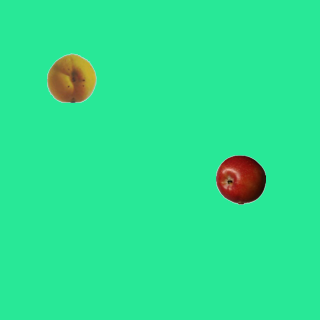Apple Braeburn: (215, 154, 265, 204)
Peach 2: (46, 52, 96, 102)
